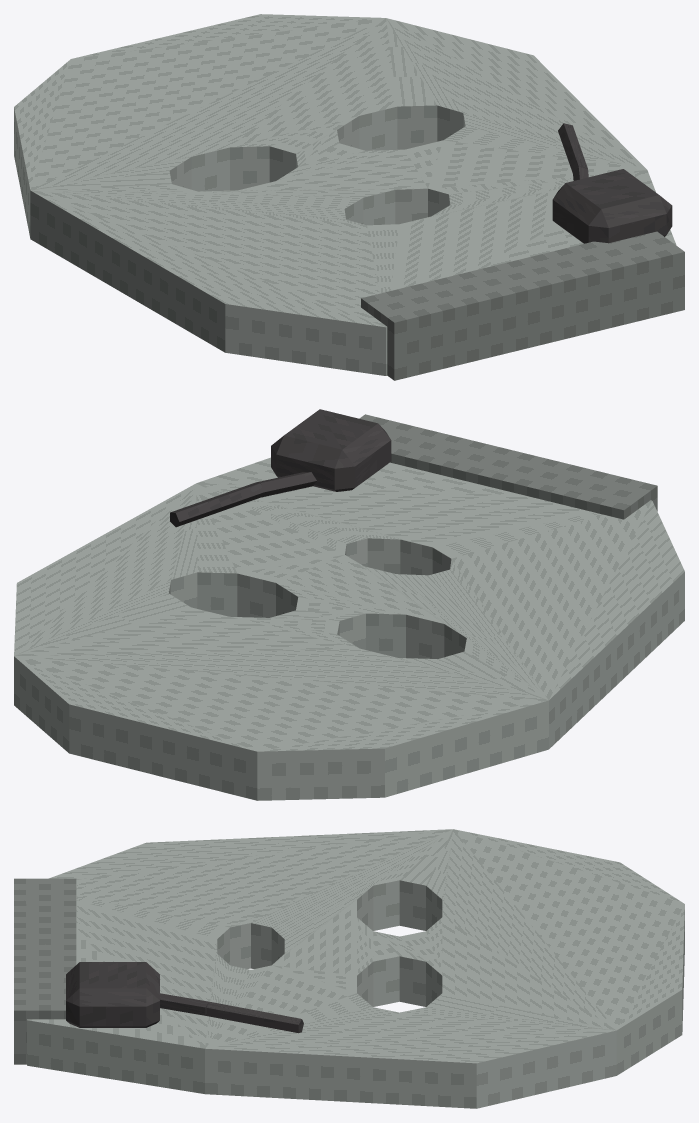
The model's file is thermal_mask.glb.
The picture shows the model from 3 angles, top to bottom: view 1: azimuth 30°, elevation 25°; view 2: azimuth 150°, elevation 25°; view 3: azimuth 270°, elevation 25°; orthographic projection. The views are drawn at different scales.
Visible parts, largest first — view 1: block_knitted face covering, block_neck hem, block_battery pouch, block_covered lead 1; view 2: block_knitted face covering, block_neck hem, block_battery pouch, block_covered lead 1, block_covered lead 0; view 3: block_knitted face covering, block_neck hem, block_battery pouch, block_covered lead 1, block_covered lead 0.
Boxes of the visible parts, box(x1,y1,x2,y2) form: block_knitted face covering: box(14, 14, 676, 375); block_neck hem: box(361, 231, 684, 380); block_battery pouch: box(552, 169, 672, 243); block_covered lead 1: box(558, 123, 587, 173); block_knitted face covering: box(14, 457, 684, 800); block_neck hem: box(359, 414, 657, 519); block_battery pouch: box(271, 409, 391, 491); block_covered lead 1: box(170, 482, 263, 527); block_covered lead 0: box(256, 472, 316, 497); block_knitted face covering: box(27, 829, 684, 1108); block_neck hem: box(14, 878, 76, 1064); block_battery pouch: box(66, 962, 159, 1027); block_covered lead 1: box(206, 1002, 303, 1033); block_covered lead 0: box(160, 993, 208, 1015).
Size of the model in its own units: 0.2082 by 0.0334 by 0.252.
Materials: 1 (1 with a texture image).
